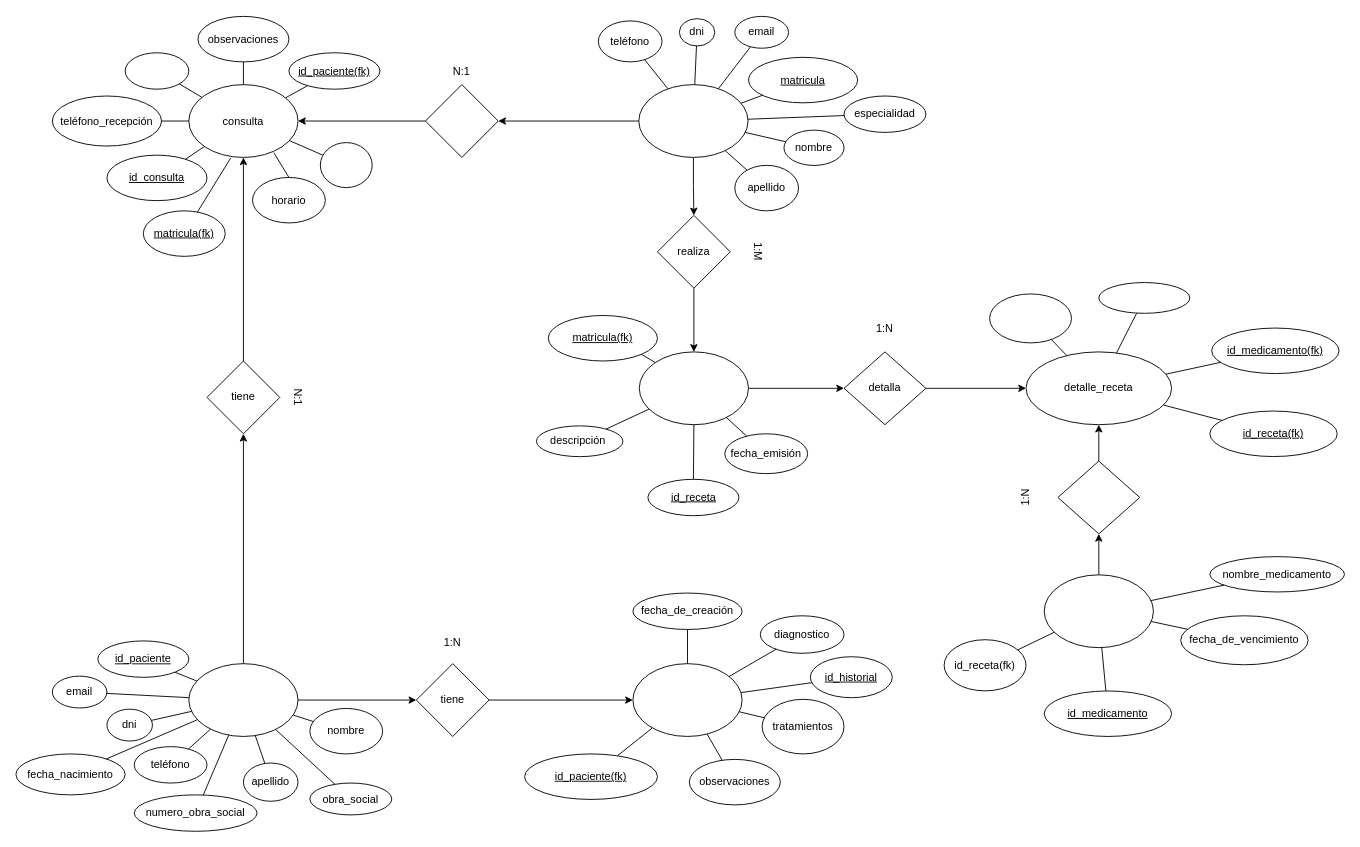
Some shapes in this 1360 by 847 pixel diagram are drawn without their labels. The shapes that lost their labels are listed below. From the top down, each one's centre as x and y in pixels, then its label:
At point (156, 70): "motivo".
At point (461, 120): "atiende".
At point (693, 120): "medico".
At point (345, 165): "fecha".
At point (1144, 297): "id_detalle".
At point (1030, 318): "indicaciones".
At point (693, 388): "receta".
At point (1098, 497): "pertenece".
At point (1098, 611): "medicamento".
At point (243, 699): "paciente".
At point (687, 699): "historial_paciente".
